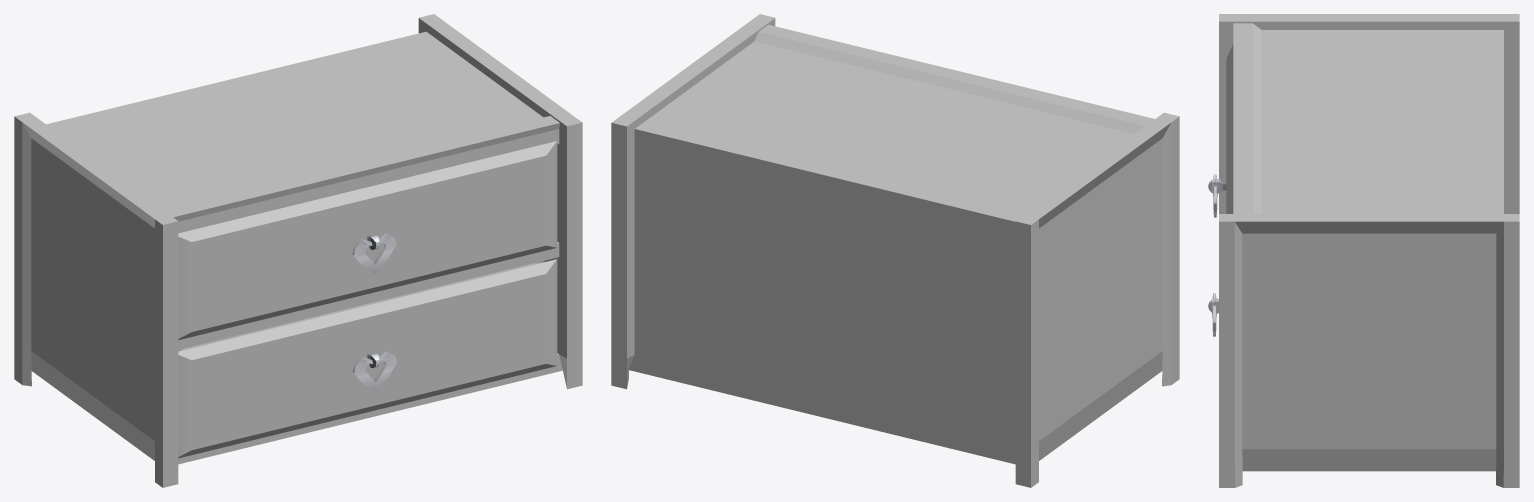
The model's file is cabinet.fbx.
3 views of the same model, side by side, from view 1: azimuth 30°, elevation 25°; view 2: azimuth 150°, elevation 25°; view 3: azimuth 270°, elevation 25° (orthographic).
Visible parts, largest first — view 1: cabinetFrame, topCabinet (×2), heart2, heart1; view 2: cabinetFrame; view 3: cabinetFrame, topCabinet.
Part boxes in pixels (bbox=[...]): cabinetFrame: bbox=[14, 14, 582, 487]; topCabinet (×2): bbox=[178, 141, 557, 458]; heart2: bbox=[353, 351, 396, 391]; heart1: bbox=[352, 233, 396, 273]; cabinetFrame: bbox=[611, 14, 1179, 487]; cabinetFrame: bbox=[1219, 14, 1519, 487]; topCabinet: bbox=[1226, 44, 1233, 213].
Bounding box in the file's own units: 2.74 × 1.64 × 1.74.
